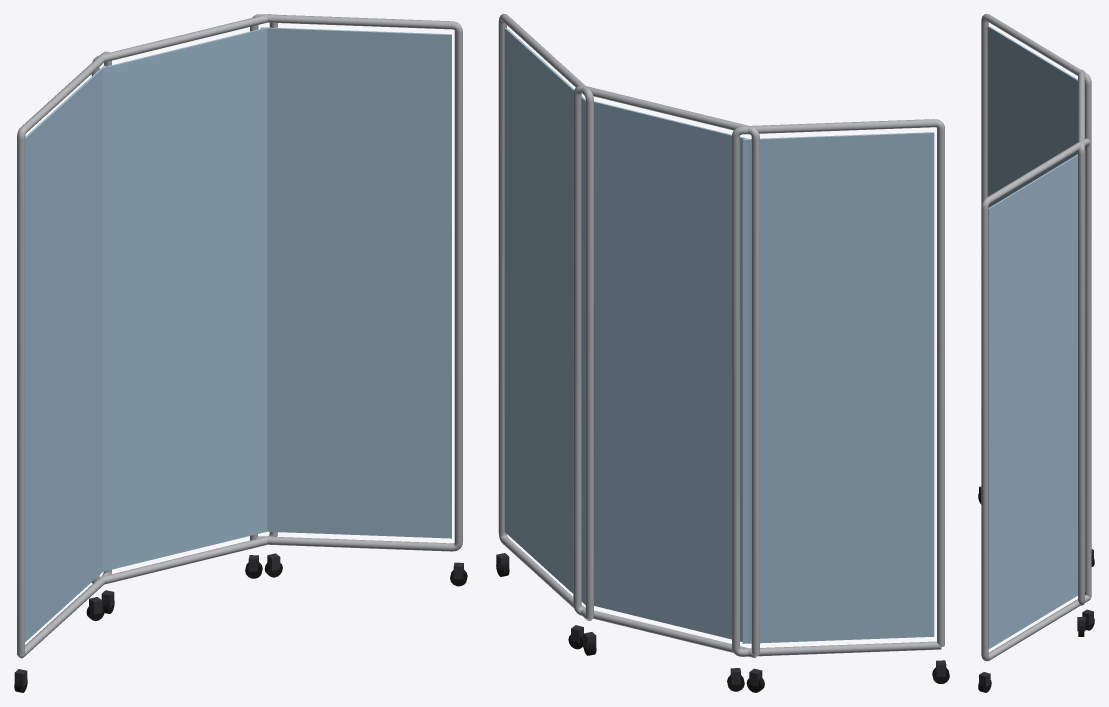
Rendered from lead-shield.glb.
3 renders of one model, left to right at view 1: azimuth 30°, elevation 25°; view 2: azimuth 150°, elevation 25°; view 3: azimuth 270°, elevation 25°, orthographic. The views are drawn at different scales.
Visible parts, largest first — view 1: 3-panel mobile privacy screen with fabric panels and castors (×4); view 2: 3-panel mobile privacy screen with fabric panels and castors (×4); view 3: 3-panel mobile privacy screen with fabric panels and castors (×4).
Boxes of the visible parts, <box> form: 3-panel mobile privacy screen with fabric panels and castors (×4): <box>14,14,467,692</box>; 3-panel mobile privacy screen with fabric panels and castors (×4): <box>496,14,949,692</box>; 3-panel mobile privacy screen with fabric panels and castors (×4): <box>978,14,1094,692</box>.
Size of the model in its own units: 1.53 by 1.81 by 0.3892.
